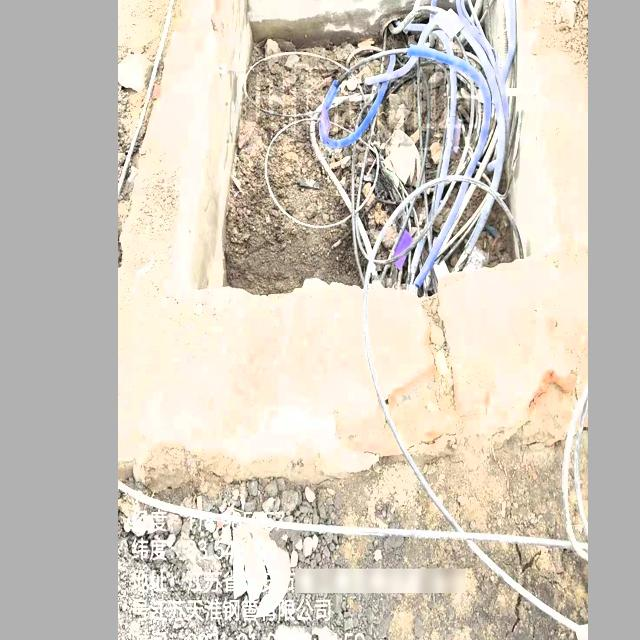lose: (169, 0, 571, 301)
